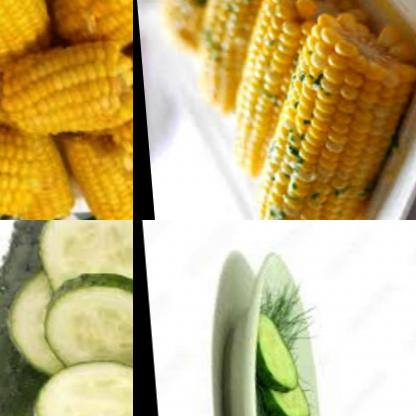corn: (229, 8, 416, 220), (197, 0, 344, 177), (166, 0, 325, 110), (0, 35, 133, 137), (53, 130, 133, 220), (41, 0, 133, 54), (0, 114, 40, 220), (139, 0, 238, 40), (0, 0, 48, 80), (99, 91, 133, 180)
cucumber: (0, 220, 133, 416), (31, 272, 133, 377), (27, 220, 133, 291), (19, 365, 133, 416), (252, 309, 300, 397), (262, 380, 318, 416)
